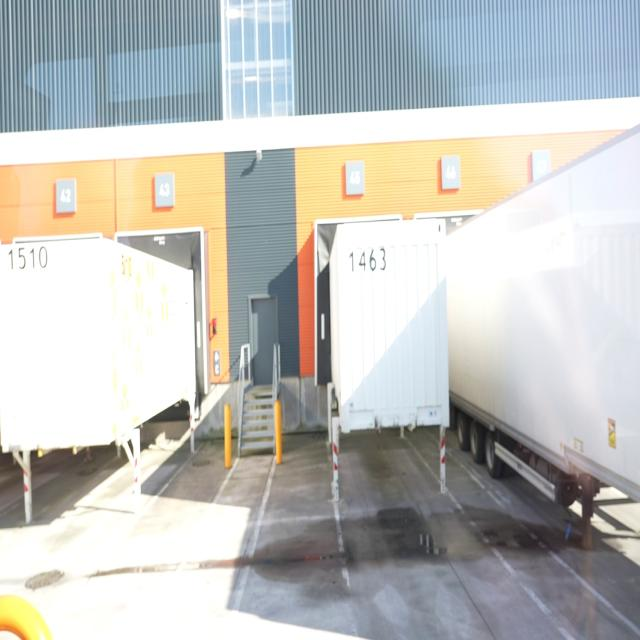Code: (346, 243, 390, 278), (6, 244, 50, 272)
